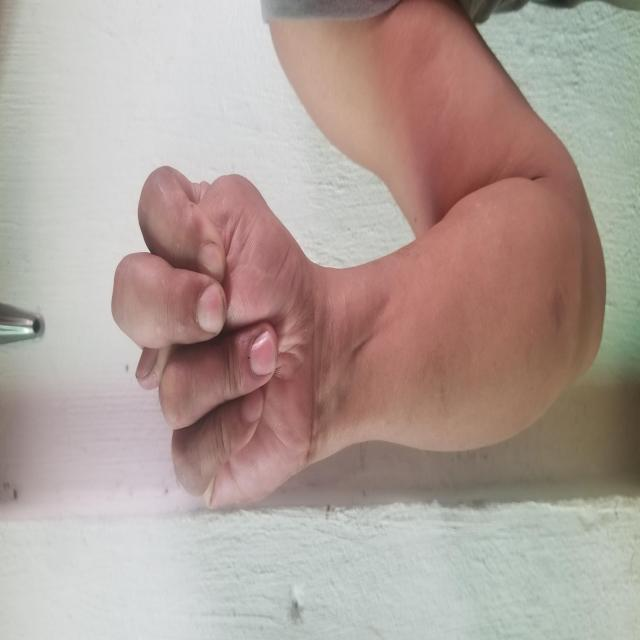N: (128, 110, 476, 310)
